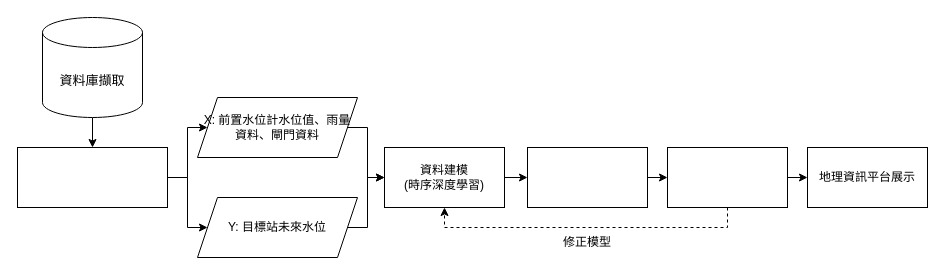
Some shapes in this 945 by 275 pixel diagram are drawn without their labels. Here are the shapes that lost their labels. From the top down, the box of each, then its label:
(16, 146, 168, 208): 資料整合與前處理 (資料清理, 時間對齊, ...)
(526, 146, 648, 208): 未來水位預測 (直接多步預測)
(666, 146, 788, 208): 計算評估指標 (RMSE / Corr.)
